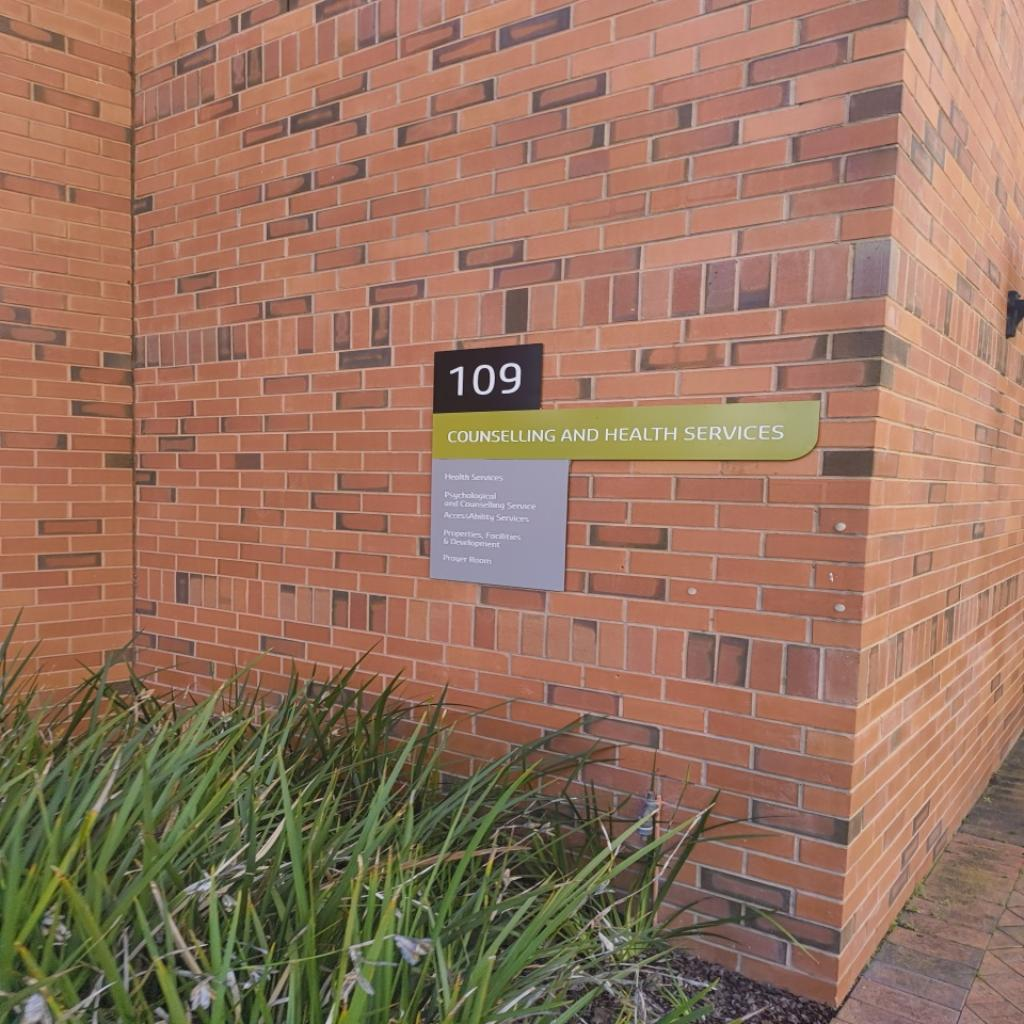BuildingCodes: (447, 358, 527, 398)
